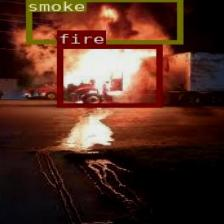fire: (56, 44, 161, 106)
smoke: (25, 0, 181, 43)
